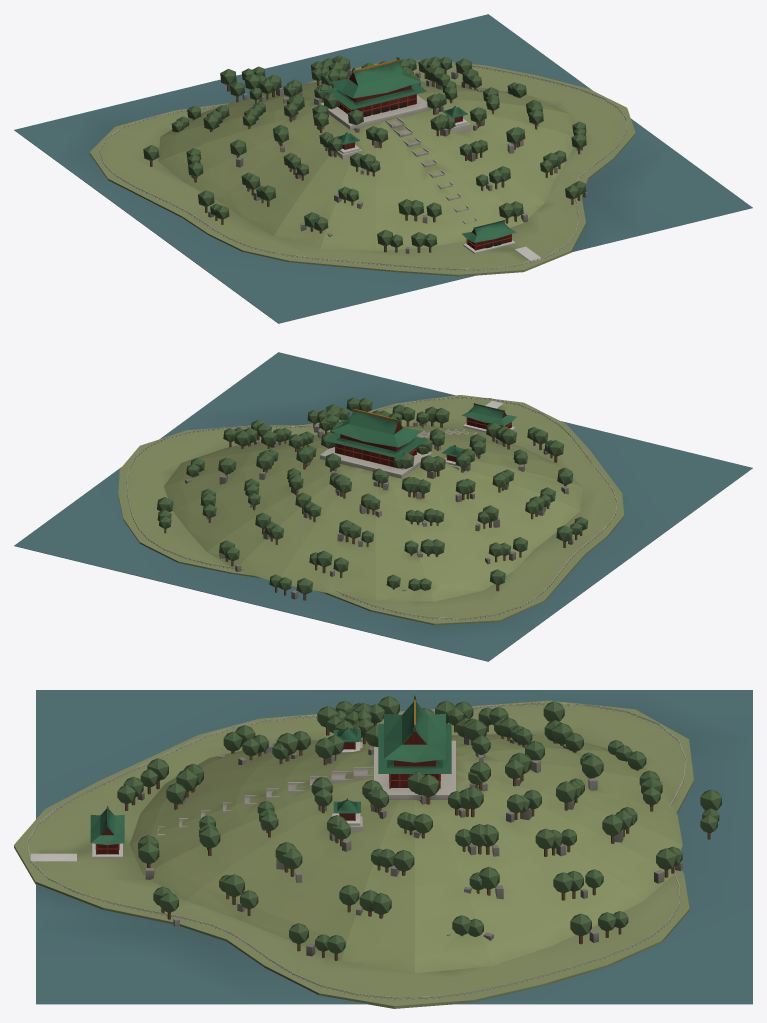
File: qionghua.glb
3 views of the same model, one above another, from view 1: azimuth 30°, elevation 25°; view 2: azimuth 150°, elevation 25°; view 3: azimuth 270°, elevation 25° (orthographic). The views are drawn at different scales.
Visible parts, largest first — view 1: p0_island, p2_roofs, p1_halls; view 2: p0_island, p2_roofs, p1_halls; view 3: p0_island, p2_roofs, p1_halls.
Boxes of the visible parts, box(x1,y1,x2,y2) form: p0_island: box(14, 14, 752, 323); p2_roofs: box(143, 55, 586, 252); p1_halls: box(99, 61, 627, 270); p0_island: box(14, 352, 752, 661); p2_roofs: box(157, 397, 588, 600); p1_halls: box(126, 396, 617, 620); p0_island: box(14, 690, 752, 1008); p2_roofs: box(90, 695, 721, 960); p1_halls: box(27, 702, 686, 1000).
Size of the model in its own units: 294 by 59.07 by 289.
